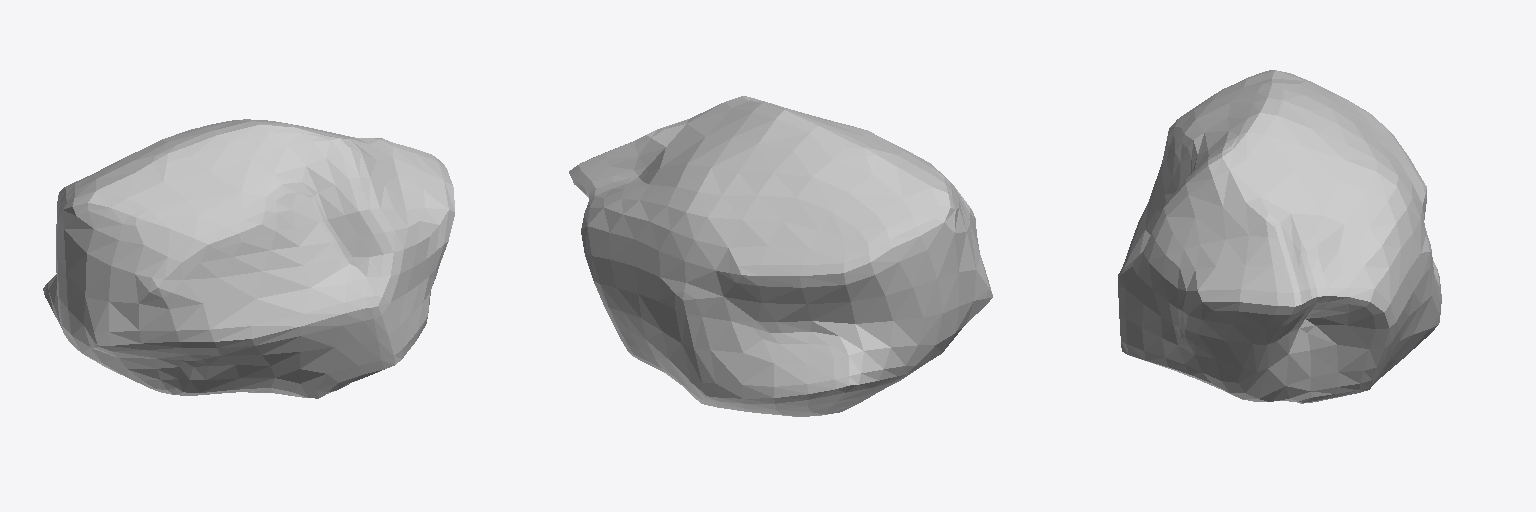
Rendered from Asteroid_X.obj.
The picture shows the model from 3 angles: view 1: azimuth 30°, elevation 25°; view 2: azimuth 150°, elevation 25°; view 3: azimuth 270°, elevation 25°; orthographic projection.
Parts seen in each view (by area): view 1: Aster_Small_5__Cube.013; view 2: Aster_Small_5__Cube.013; view 3: Aster_Small_5__Cube.013.
Part boxes in pixels (x1,y1,x2,y2): Aster_Small_5__Cube.013: (43,119,454,398); Aster_Small_5__Cube.013: (569,96,992,416); Aster_Small_5__Cube.013: (1118,70,1441,403).
Size of the model in its own units: 1.49 by 1.04 by 1.09.